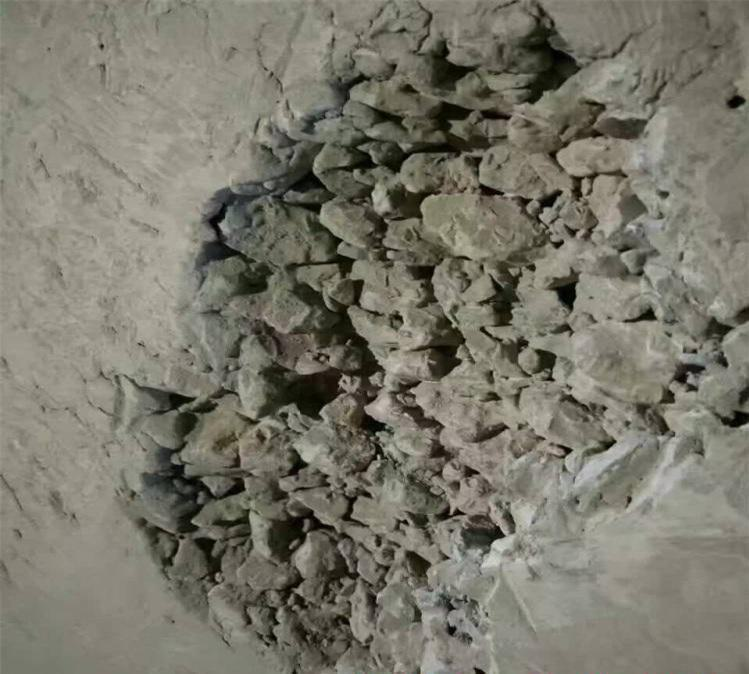Spalling: (116, 1, 749, 674)
